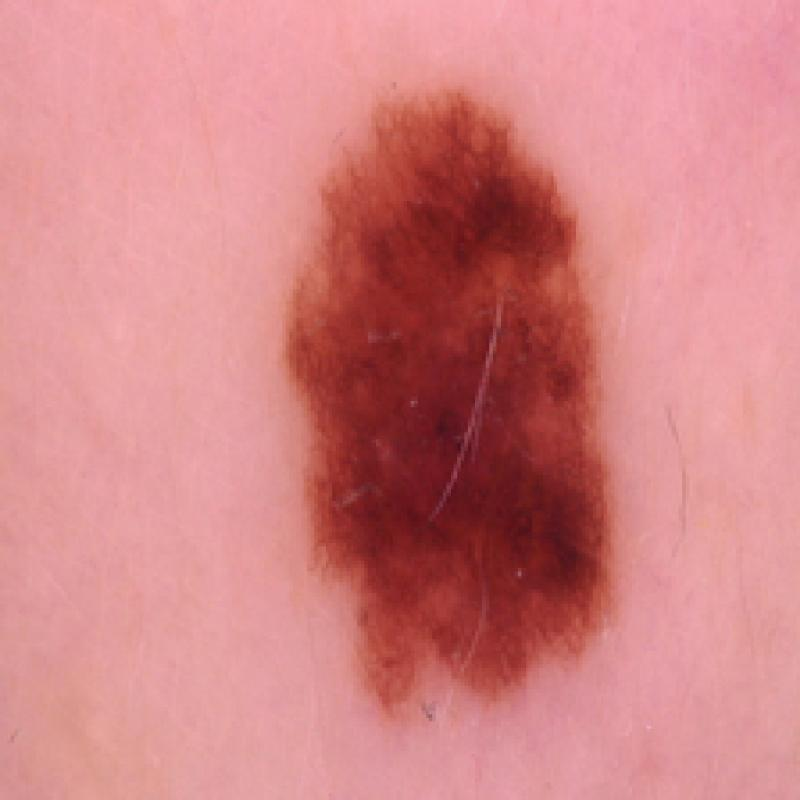benign: (257, 73, 626, 747)
